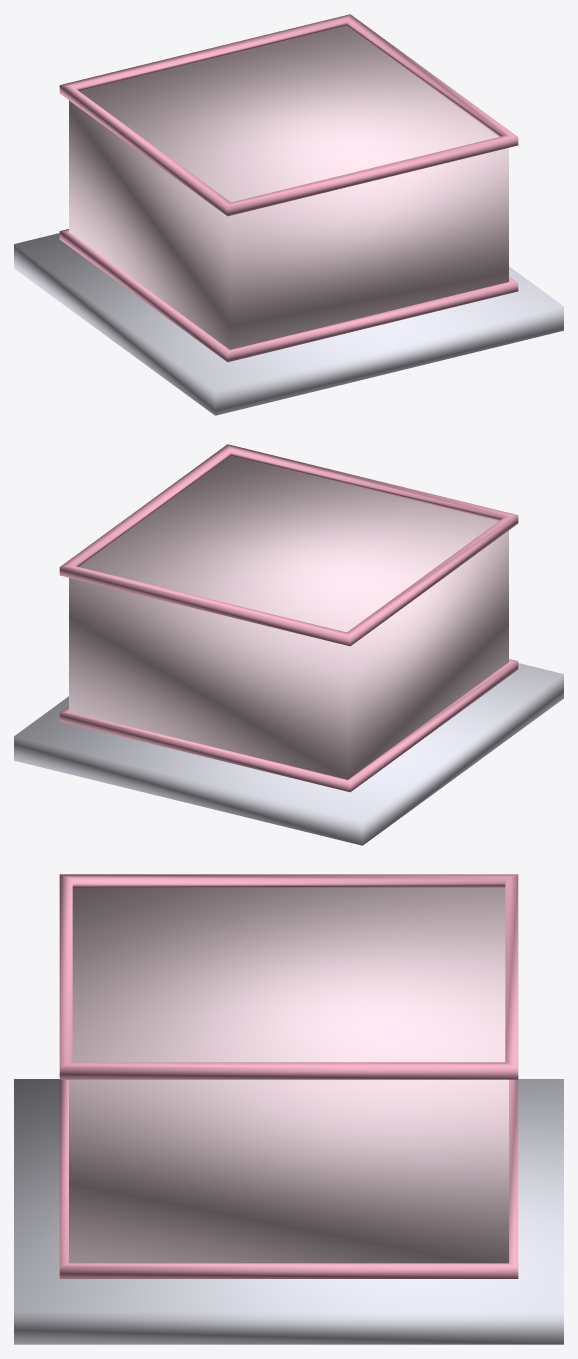
The model's file is square_strawberry.glb.
3 views of the same model, one above another, from view 1: azimuth 30°, elevation 25°; view 2: azimuth 150°, elevation 25°; view 3: azimuth 270°, elevation 25° (orthographic). The views are drawn at different scales.
Parts seen in each view (by area): view 1: CakeBase, IcingStand, IcingRing, IcingRing.001; view 2: CakeBase, IcingStand, IcingRing, IcingRing.001; view 3: CakeBase, IcingStand, IcingRing, IcingRing.001.
Boxes of the visible parts, x1,y1,x2,y2 form: CakeBase: [69, 25, 508, 349]; IcingStand: [14, 233, 563, 415]; IcingRing: [59, 14, 518, 216]; IcingRing.001: [59, 229, 518, 362]; CakeBase: [69, 455, 508, 779]; IcingStand: [14, 663, 563, 845]; IcingRing: [59, 444, 518, 646]; IcingRing.001: [59, 659, 518, 792]; CakeBase: [69, 888, 508, 1263]; IcingStand: [14, 1079, 563, 1344]; IcingRing: [59, 874, 518, 1079]; IcingRing.001: [59, 1079, 518, 1278].
Bounding box in the file's own units: 3 × 1.55 × 3.
